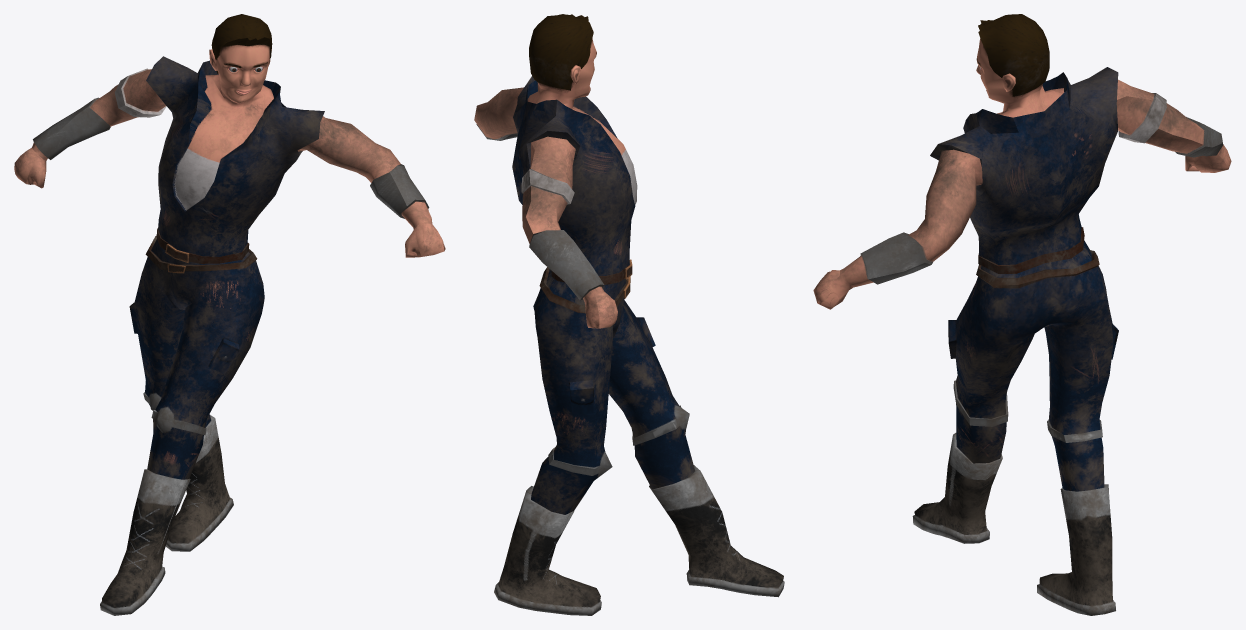
File: Anim_ataque_f2_jugador.0035.obj
3 renders of one model, left to right at view 1: azimuth 30°, elevation 25°; view 2: azimuth 150°, elevation 25°; view 3: azimuth 270°, elevation 25°, orthographic. The views are drawn at different scales.
Visible parts, largest first — view 1: polySurface1; view 2: polySurface1; view 3: polySurface1.
Boxes of the visible parts, x1,y1,x2,y2 form: polySurface1: (14,14,445,615); polySurface1: (474,14,784,615); polySurface1: (813,14,1231,615).
Size of the model in its own units: 5.5 by 9.46 by 5.97.
